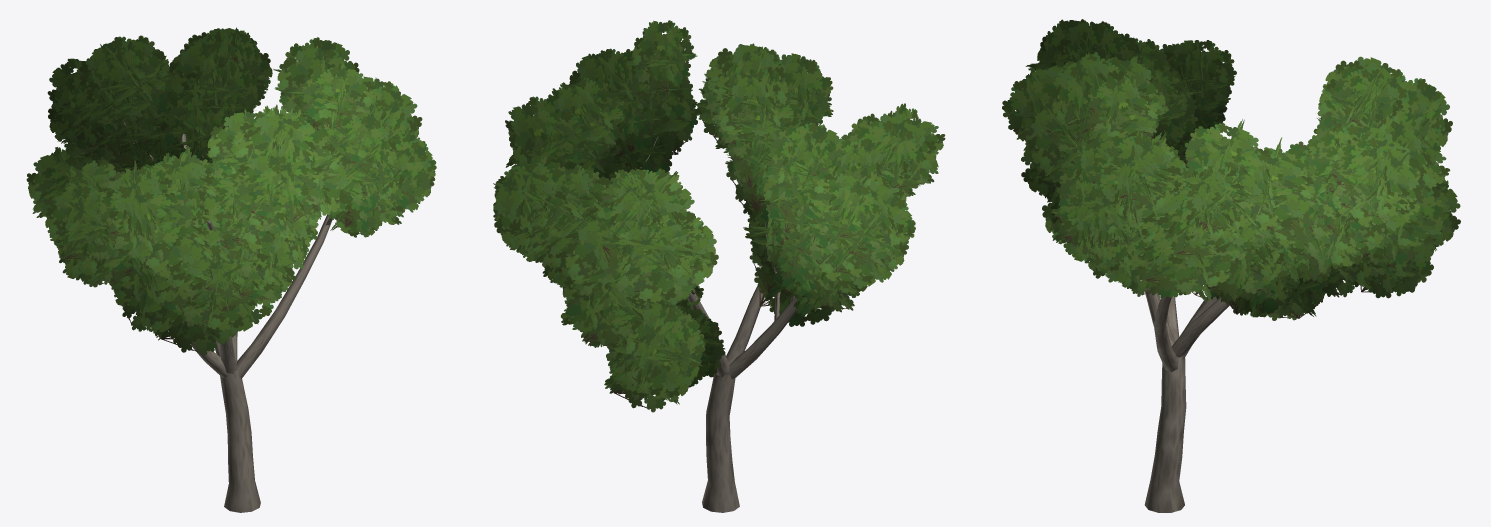
File: veg_maple_a.fbx
3 renders of one model, left to right at view 1: azimuth 30°, elevation 25°; view 2: azimuth 150°, elevation 25°; view 3: azimuth 270°, elevation 25°, orthographic. The views are drawn at different scales.
Visible parts, largest first — view 1: veg_maple_a_LOD0; view 2: veg_maple_a_LOD0; view 3: veg_maple_a_LOD0.
Boxes of the visible parts, bbox=[...] form: veg_maple_a_LOD0: bbox=[26, 27, 436, 512]; veg_maple_a_LOD0: bbox=[493, 20, 945, 512]; veg_maple_a_LOD0: bbox=[1002, 19, 1460, 512].
Size of what is drawn, in the model's own units: 11.14 by 12.52 by 11.74.
Materials: 2 (2 with a texture image).
